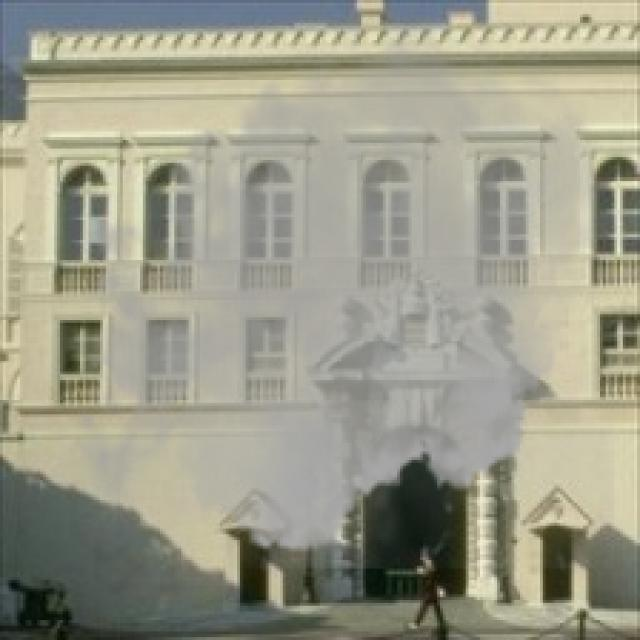Smoke: (57, 2, 614, 568)
